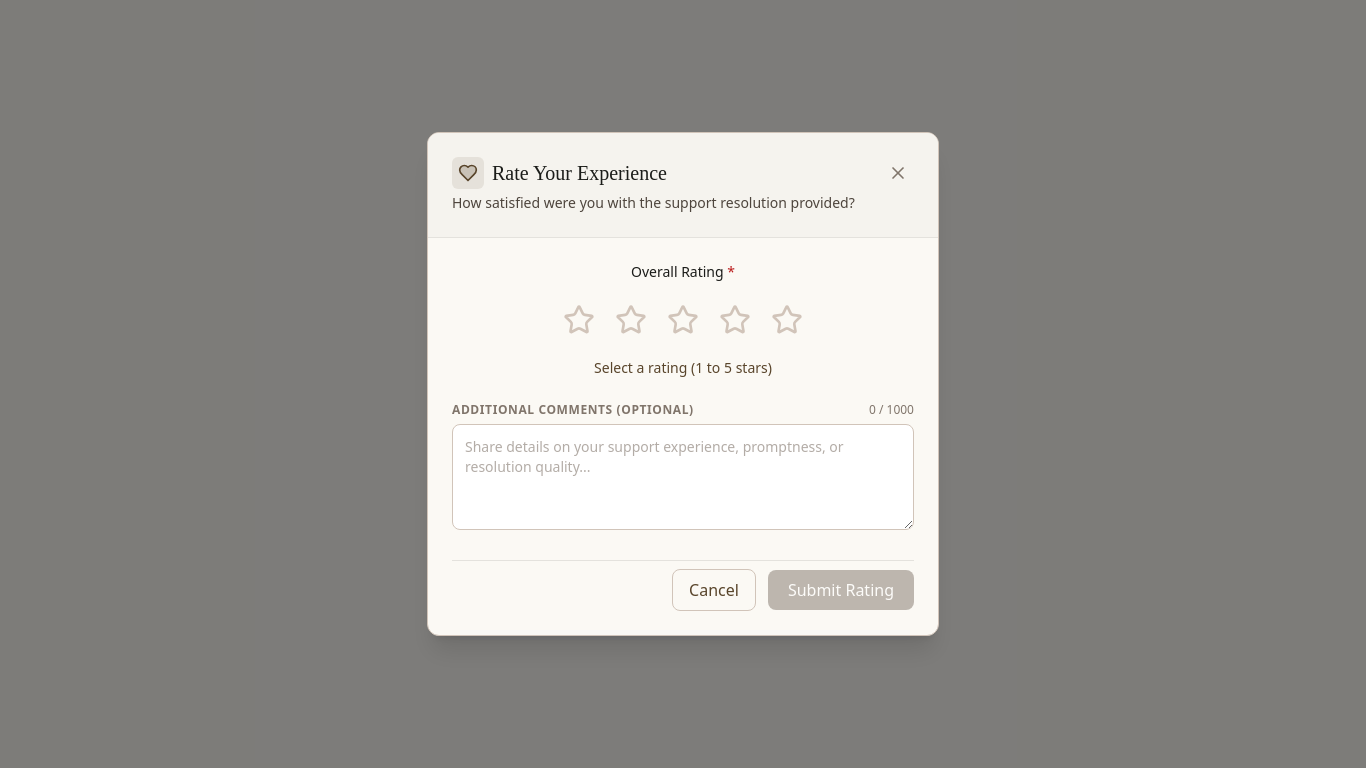
it: CSATRatingModal Component [FR-9, NFR-2, NFR-4] › previews hover score label on star mouse enter and resets on mouse leave
Hover over the button with test id "csat-star-button-5": x=787, y=320 x1=765 y1=298 x2=809 y2=342
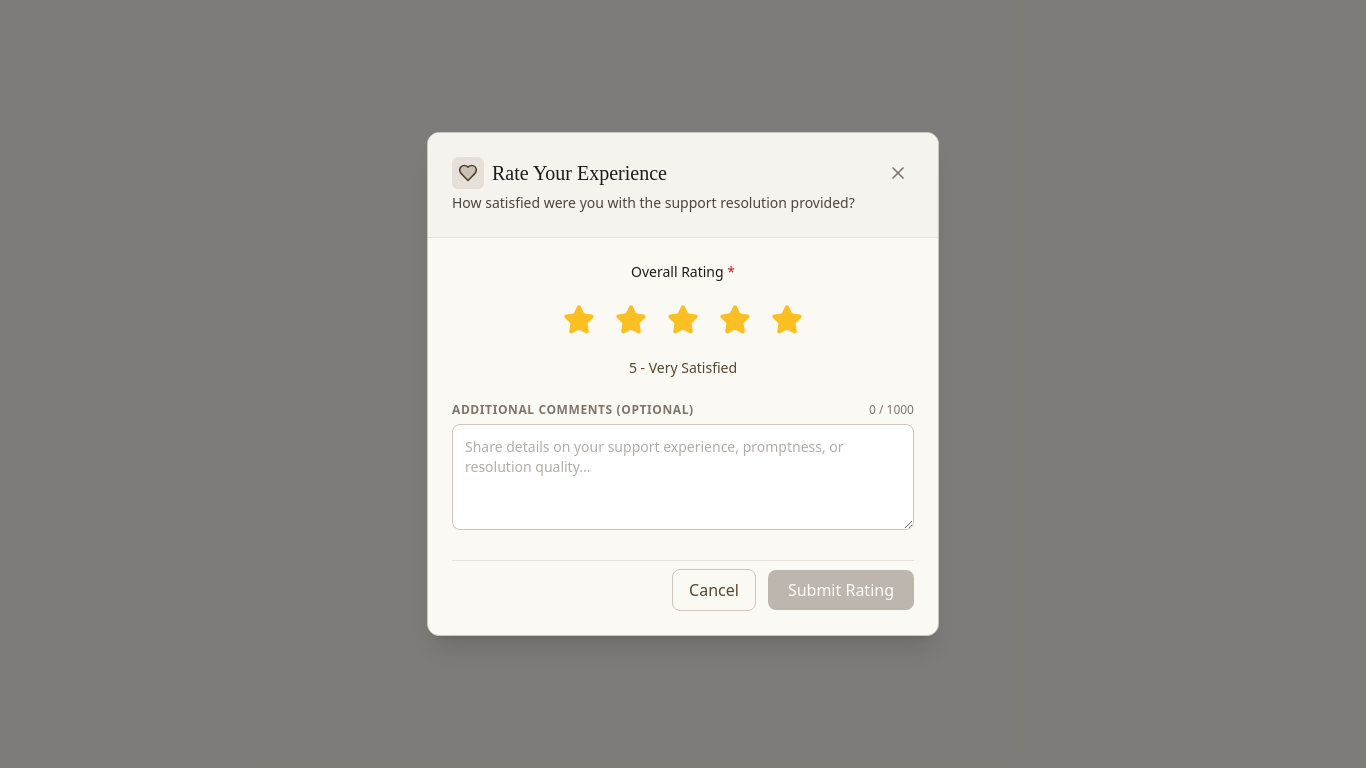
Expected: the text with test id "csat-score-label" reads "5 - Very Satisfied", x1=629 y1=358 x2=737 y2=377
Move the pointer off the element with test id "csat-star-picker", box x1=557 y1=298 x2=809 y2=342
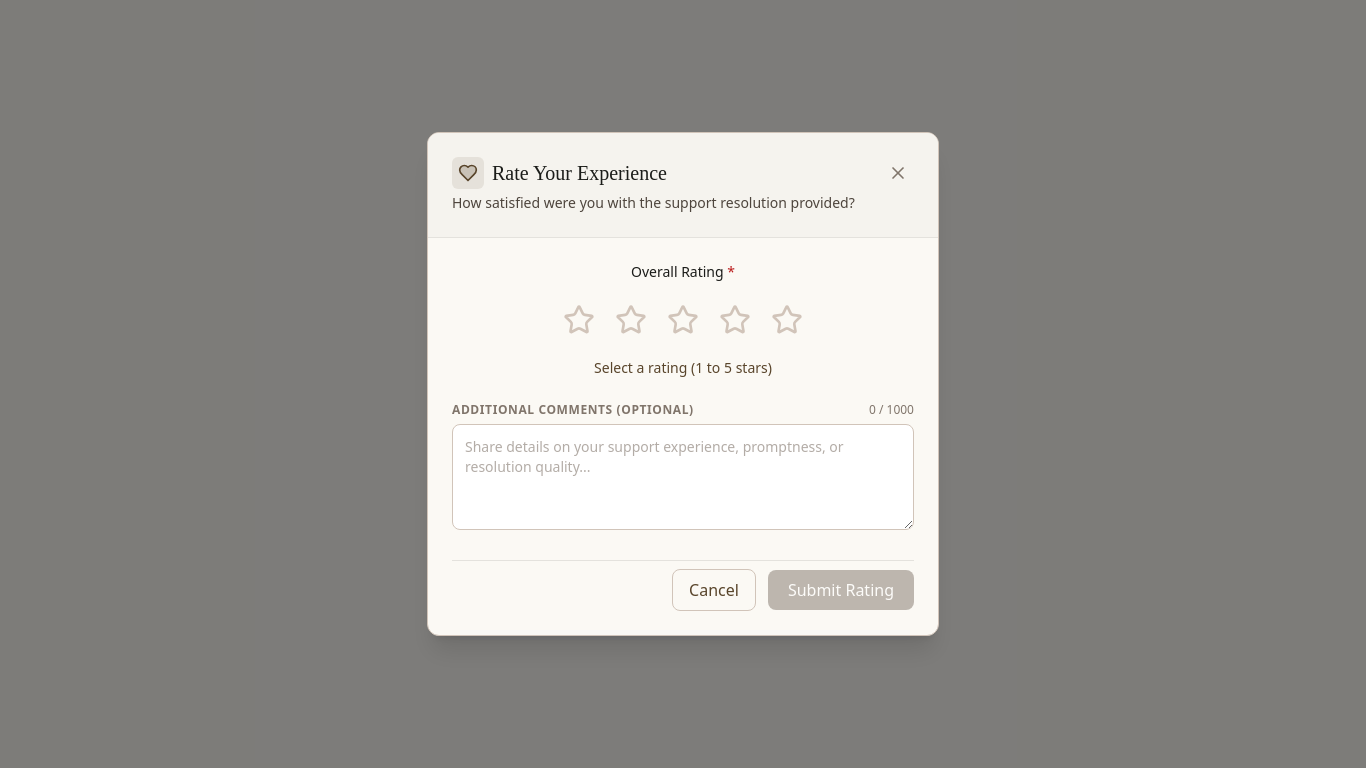
Expected: the text with test id "csat-score-label" reads "Select a rating (1 to 5 stars)", x1=594 y1=358 x2=772 y2=377
